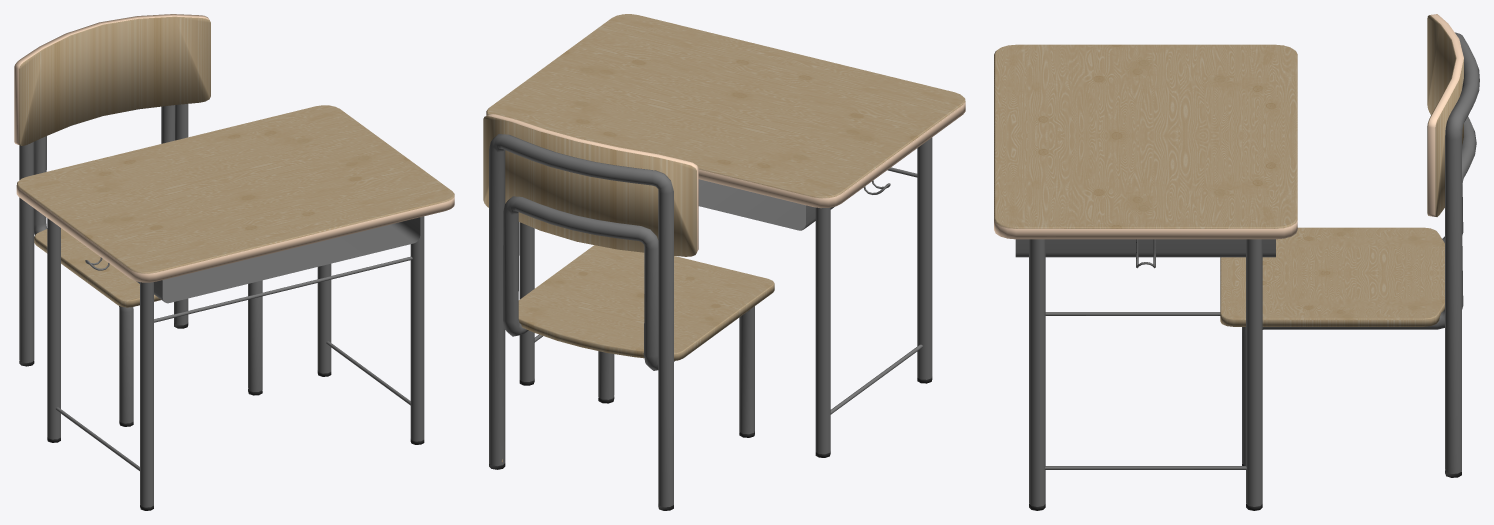
The model's file is school_desk 3D.glb.
The picture shows the model from 3 angles, left to right: view 1: azimuth 30°, elevation 25°; view 2: azimuth 150°, elevation 25°; view 3: azimuth 270°, elevation 25°; orthographic projection. The views are drawn at different scales.
Parts seen in each view (by area): view 1: Desk_e, Chair_e; view 2: Desk_e, Chair_e; view 3: Desk_e, Chair_e.
Boxes of the visible parts, bbox=[...] form: Desk_e: bbox=[16, 105, 454, 510]; Chair_e: bbox=[14, 14, 262, 426]; Desk_e: bbox=[486, 14, 965, 457]; Chair_e: bbox=[483, 114, 774, 510]; Desk_e: bbox=[994, 44, 1297, 510]; Chair_e: bbox=[1220, 14, 1479, 477].
Size of the model in its own units: 100 by 94.66 by 112.
Materials: 1 (1 with a texture image).
